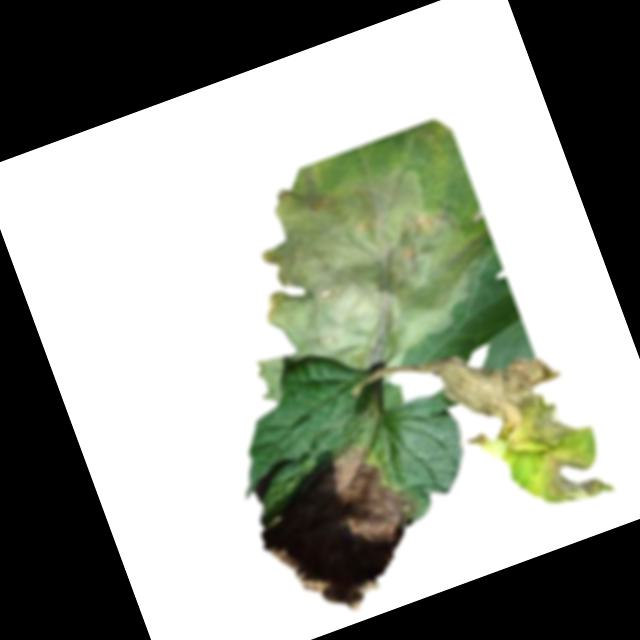Late_blight: (223, 116, 518, 395), (416, 312, 618, 540), (241, 432, 446, 634)
